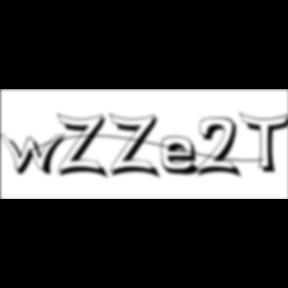2: (195, 117, 245, 181)
Z: (57, 112, 112, 181), (110, 112, 164, 181)
e: (161, 135, 207, 178)
w: (0, 132, 74, 178)
